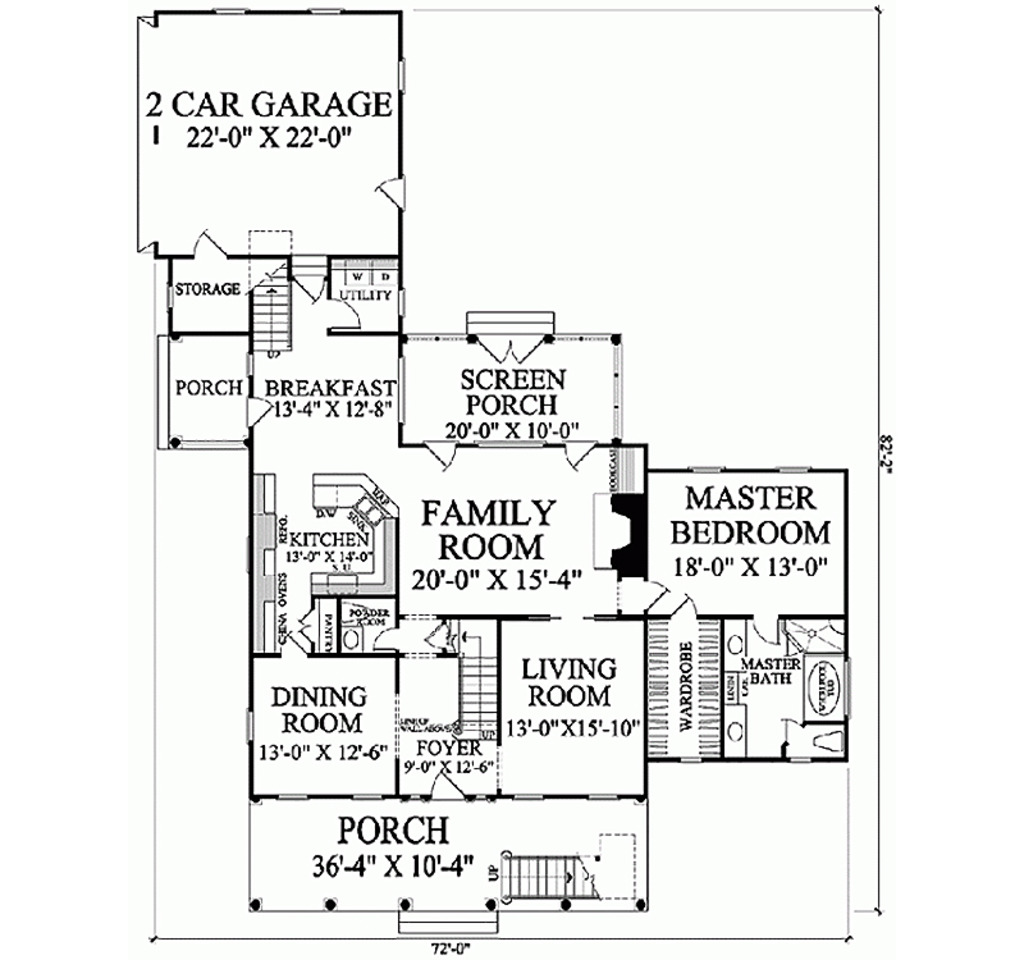door: (558, 438, 604, 473), (189, 228, 228, 265), (324, 296, 362, 331), (643, 576, 673, 616), (376, 176, 407, 214), (423, 440, 457, 473), (247, 395, 273, 428)
large_sink: (806, 726, 848, 763)
small_sink: (722, 617, 751, 673), (723, 701, 748, 763)
stairs: (494, 845, 643, 907), (451, 622, 504, 745), (247, 230, 297, 351), (461, 303, 557, 336)
tub: (803, 653, 847, 722)
twin_sink: (349, 493, 388, 528)
